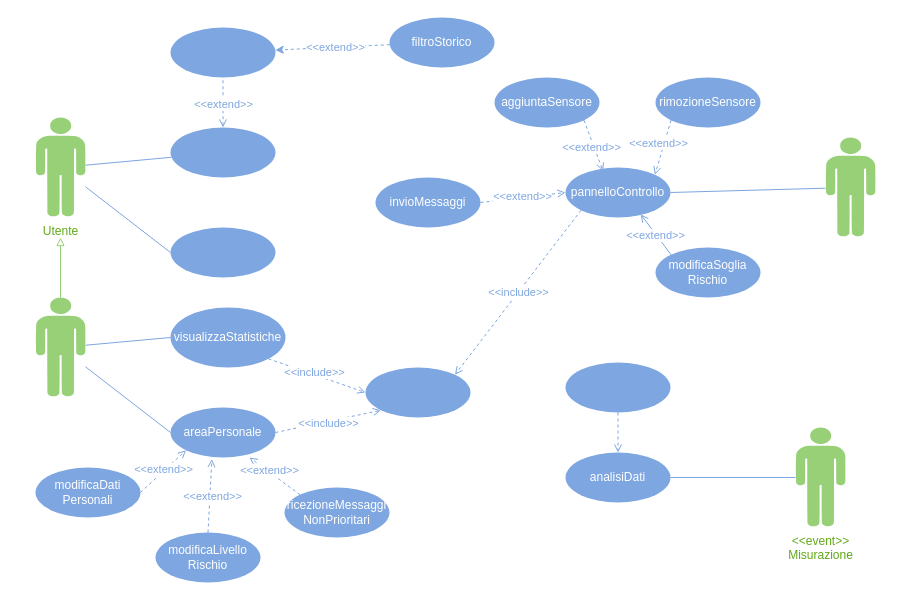
Some shapes in this 898 by 599 pixel diagram are drawn without their labels. Each missing label, with the centre of its shape:
EnteLocale: point (850, 187)
login: point (417, 392)
notificaUtenti: point (617, 387)
registrazione: point (222, 252)
UtenteRegisrato: point (60, 347)
visualizzaStorico: point (222, 52)
visualizzaUltimo Dato: point (222, 152)
